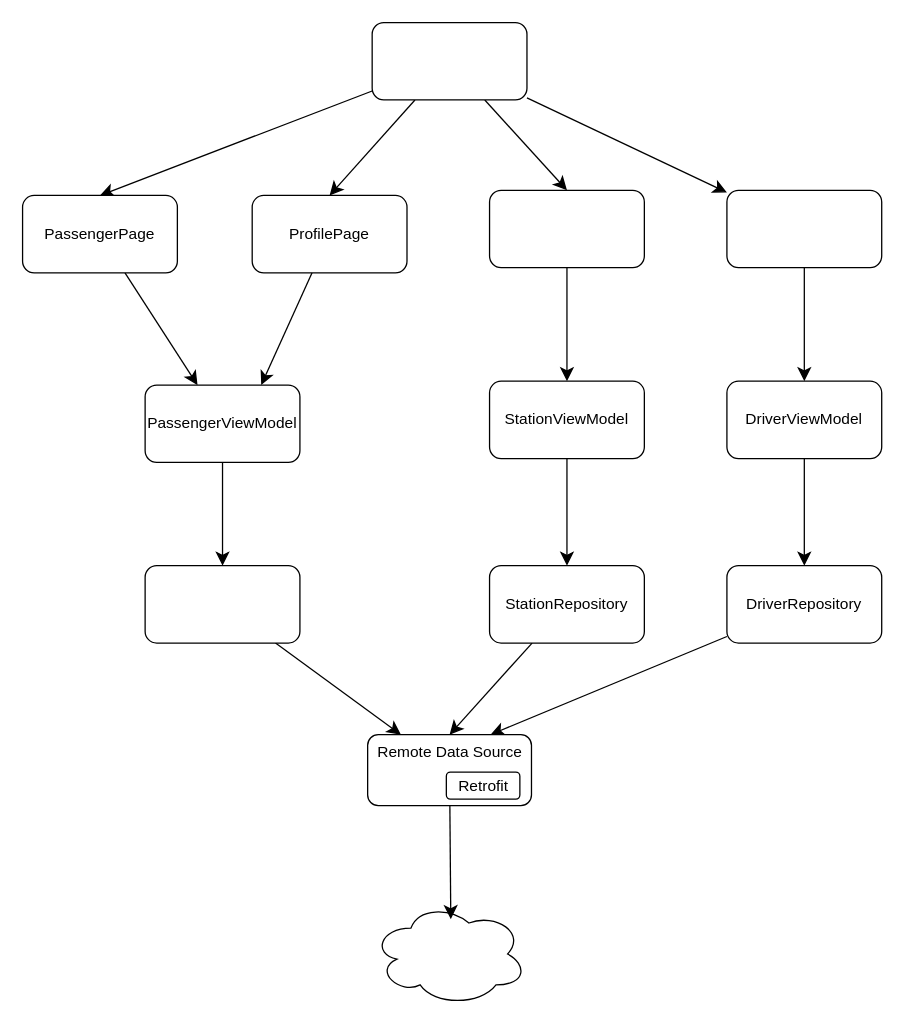
Image size: 904x1028. Some labels were removed from this diagram. The centre of each missing label's shape, as x and y in pixels:
"DriverPage" belongs at (804,228).
"MainActivyty" belongs at (449,60).
"PassengerRepository" belongs at (222,603).
"StationPage" belongs at (566,228).
"WebService" belongs at (449,953).
